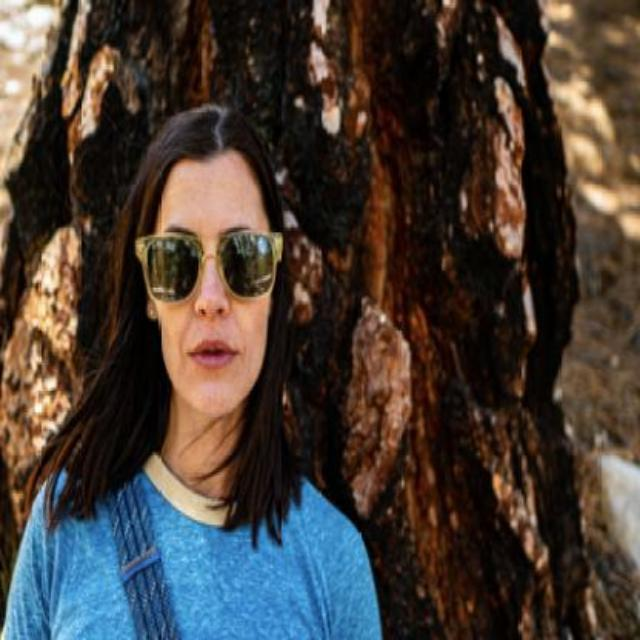glasses: (134, 228, 282, 302)
